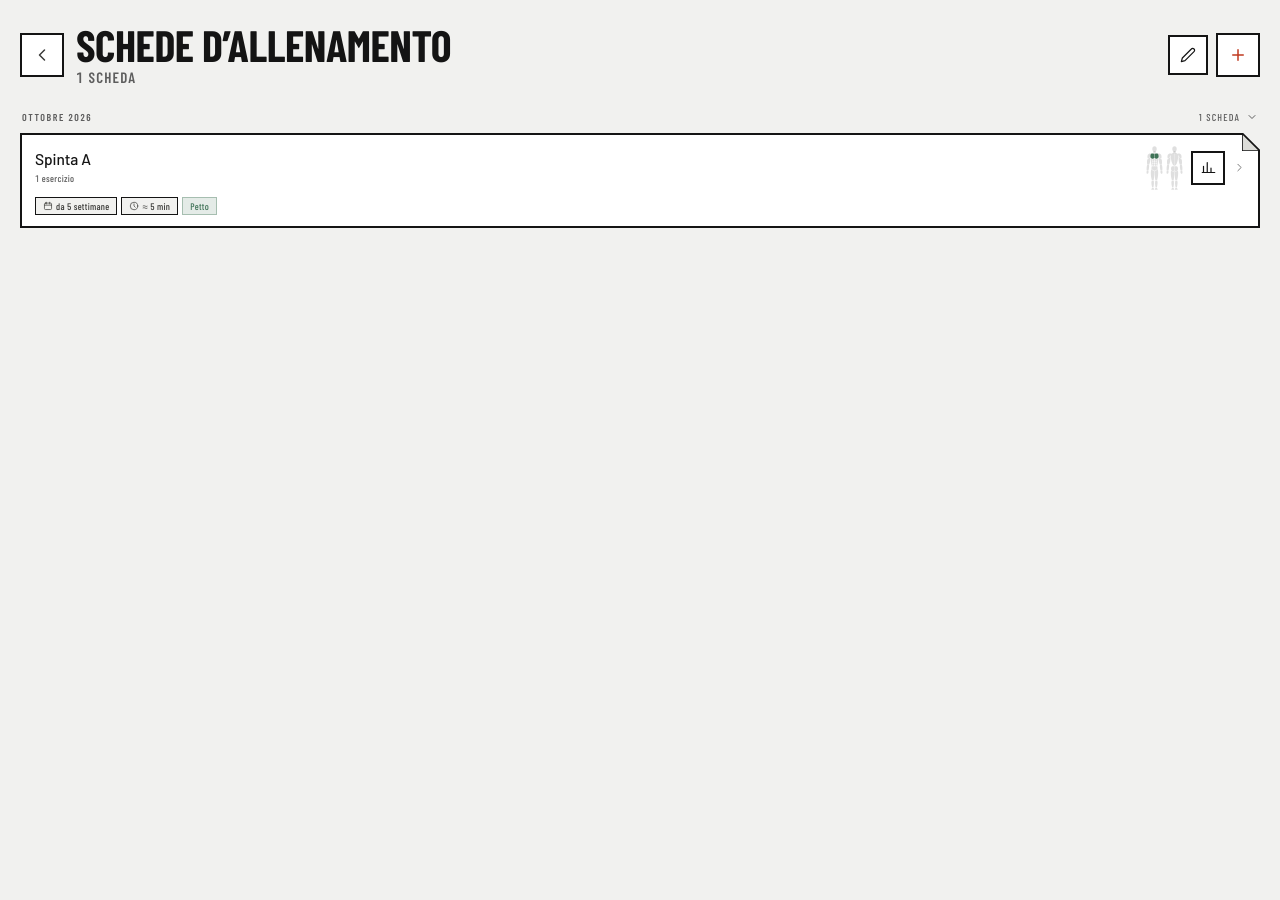
Test: condividere una scheda › ogni allievo ha la sua foto, o le iniziali se non ne ha una
The image size is (1280, 900).
Click the text "Spinta A" at (63, 160), box [35,150,91,169]
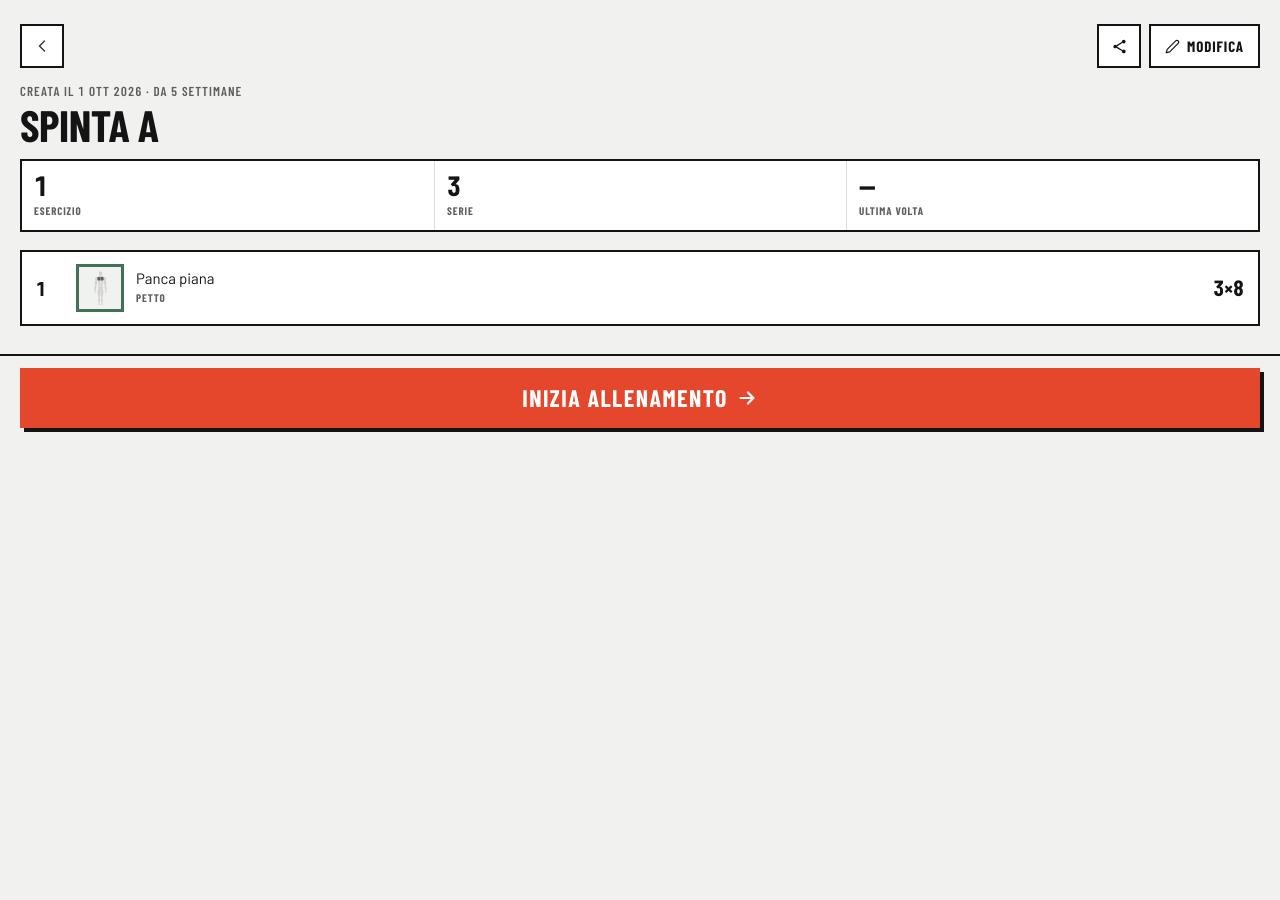
Click the button named "Condividi la scheda" at (1119, 46), box [1097,24,1141,68]
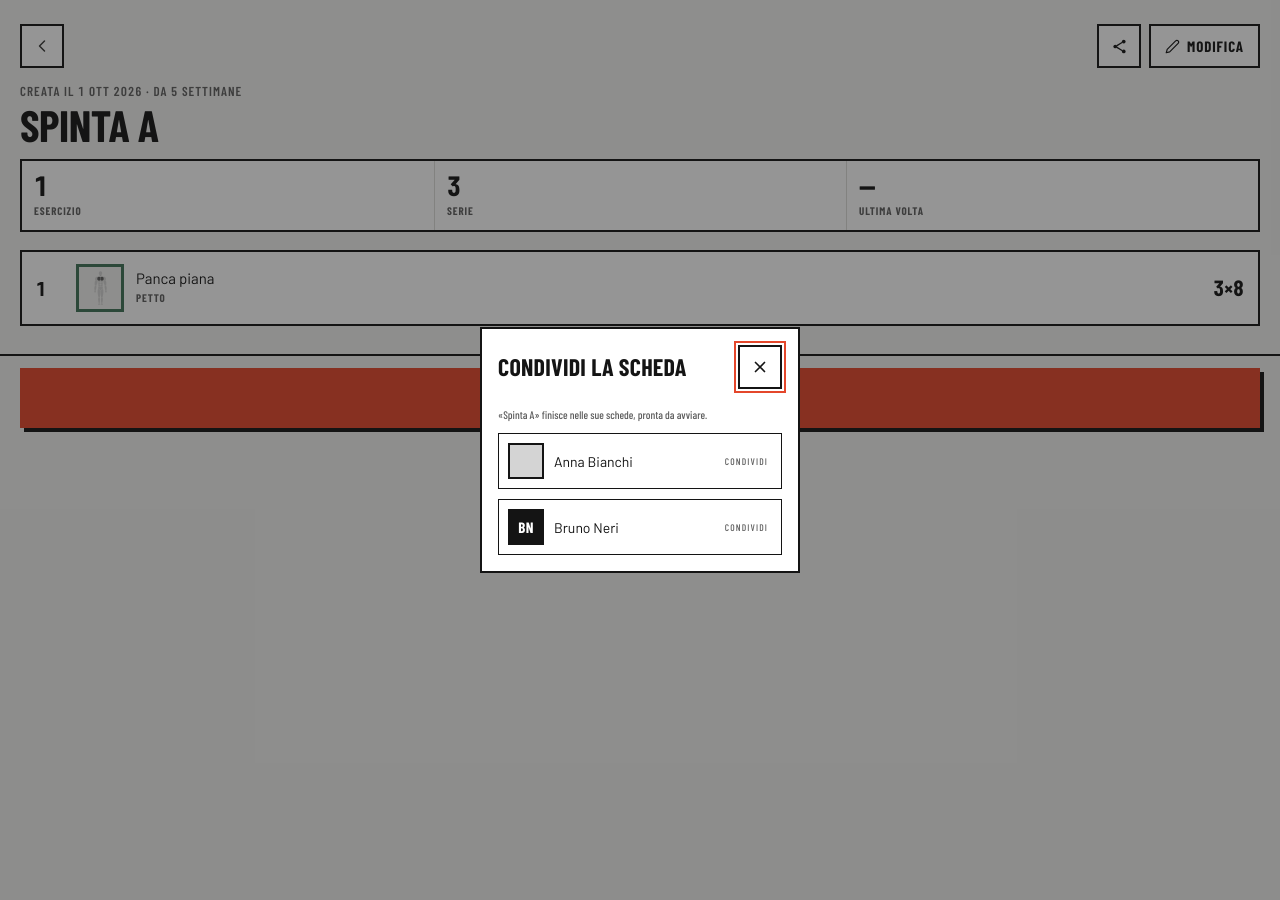
expect the button "BN Bruno Neri Condividi" is shown: met, box [498,499,782,555]
